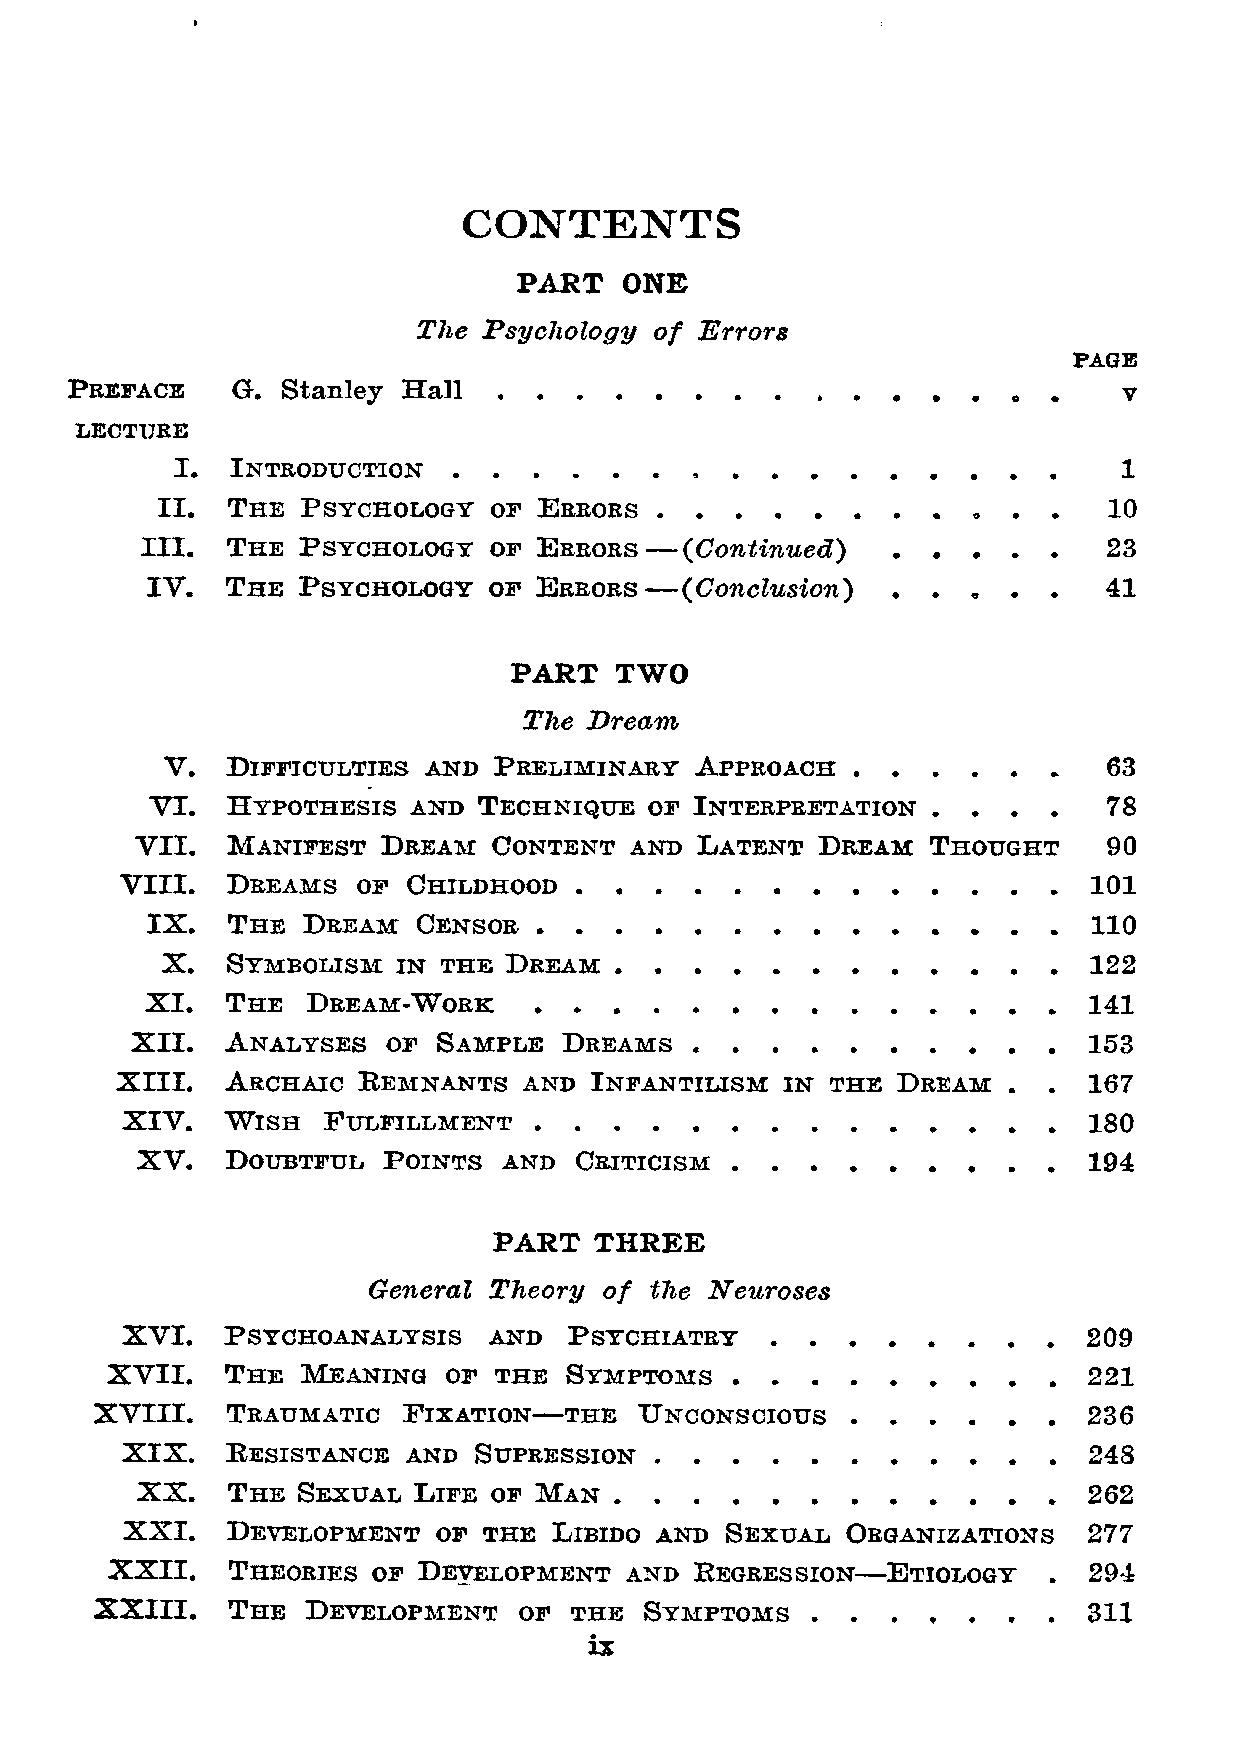TOC_chapter: (366, 1229, 845, 1308), (103, 1555, 1015, 1592), (413, 263, 801, 345), (142, 569, 858, 608), (114, 1067, 998, 1098), (132, 832, 1062, 860), (87, 1396, 829, 1431), (114, 1520, 1055, 1547), (136, 533, 849, 566), (148, 790, 923, 821), (94, 1592, 790, 1625), (158, 749, 841, 782), (121, 1321, 739, 1351), (133, 1143, 717, 1176), (126, 1025, 679, 1057), (115, 1437, 640, 1471), (156, 943, 611, 980), (106, 1359, 715, 1386), (493, 656, 696, 734), (137, 1478, 603, 1508), (152, 491, 641, 519), (119, 1103, 513, 1137), (145, 907, 523, 939), (68, 374, 463, 405), (114, 870, 558, 896), (137, 986, 501, 1015), (164, 454, 423, 482)
TOC_pagenumber: (1083, 1031, 1141, 1057), (1086, 1596, 1135, 1627), (1084, 988, 1133, 1019), (1088, 909, 1141, 935), (1084, 1068, 1137, 1095), (1086, 1520, 1141, 1546), (1082, 1361, 1138, 1385), (1086, 1480, 1138, 1506), (1082, 1444, 1139, 1467), (1087, 1106, 1135, 1133), (1088, 1143, 1134, 1172), (1091, 949, 1143, 973), (1083, 1322, 1135, 1346), (1082, 1400, 1137, 1423), (1087, 1561, 1137, 1585), (1090, 874, 1141, 895), (1100, 534, 1139, 560), (1103, 831, 1142, 855), (1099, 756, 1139, 778), (1104, 573, 1138, 600), (1104, 790, 1139, 816), (1107, 493, 1139, 519), (1117, 456, 1139, 480), (1117, 382, 1139, 403)
chapter: (463, 201, 747, 242)
